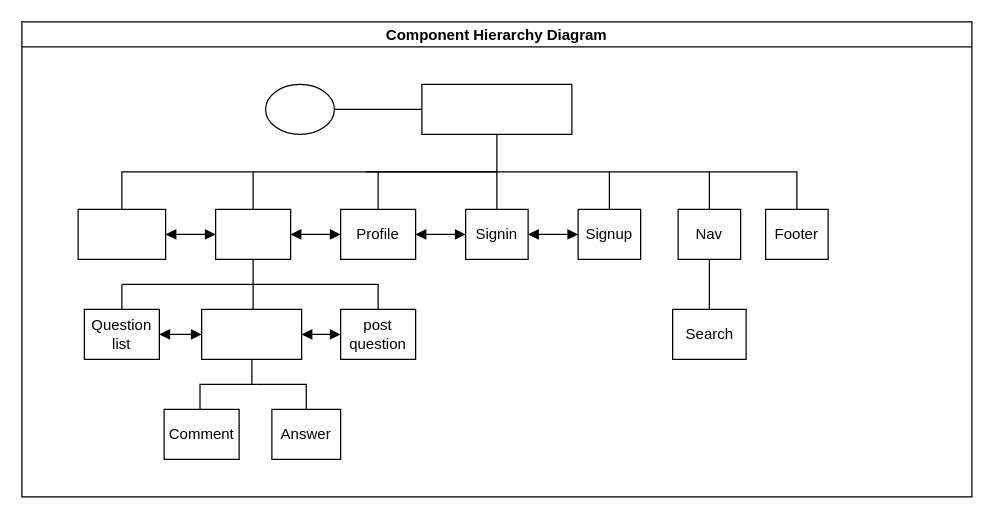
This 994x519 diagram has some shape labels left out. Each missing label, with the centre of its shape:
App: point 496,108
Home: point 121,233
main: point 299,108
Question detail: point 251,333
Questions: point 252,233
